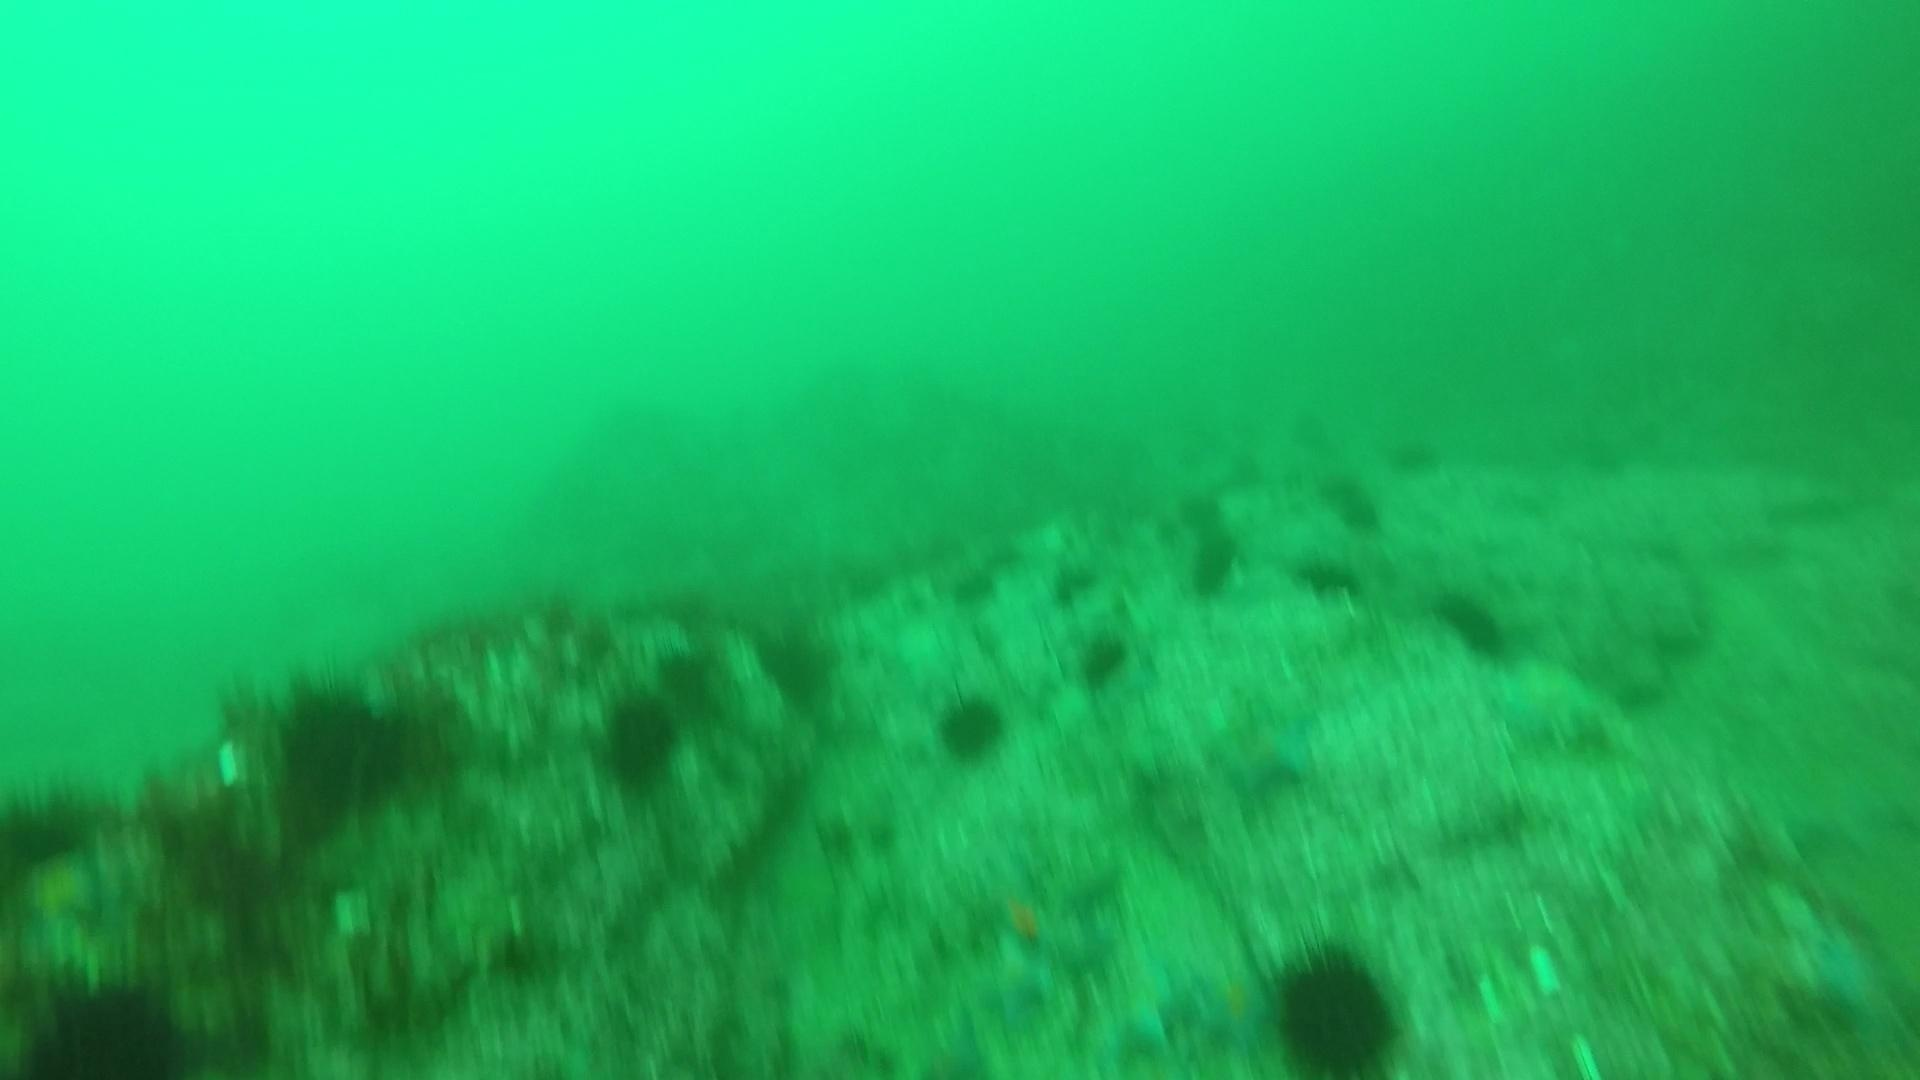echinus: (5, 961, 198, 1077), (270, 674, 418, 815), (1262, 938, 1407, 1075), (593, 688, 687, 791), (1, 781, 95, 884), (753, 622, 840, 709), (1429, 584, 1516, 665), (931, 687, 1011, 767), (650, 641, 729, 723), (1180, 526, 1244, 603), (1071, 626, 1134, 694), (1292, 549, 1364, 607), (940, 568, 1000, 622), (1048, 559, 1106, 613), (1385, 429, 1444, 477), (980, 535, 1029, 580), (1176, 487, 1224, 531), (1319, 469, 1357, 506), (1338, 496, 1377, 533), (1222, 454, 1261, 491)
starfish: (1797, 923, 1905, 1065), (1489, 655, 1629, 756), (1083, 951, 1189, 1069), (1209, 698, 1325, 803), (1184, 953, 1284, 1059), (977, 866, 1062, 963), (899, 1011, 992, 1080), (986, 957, 1060, 1026)
